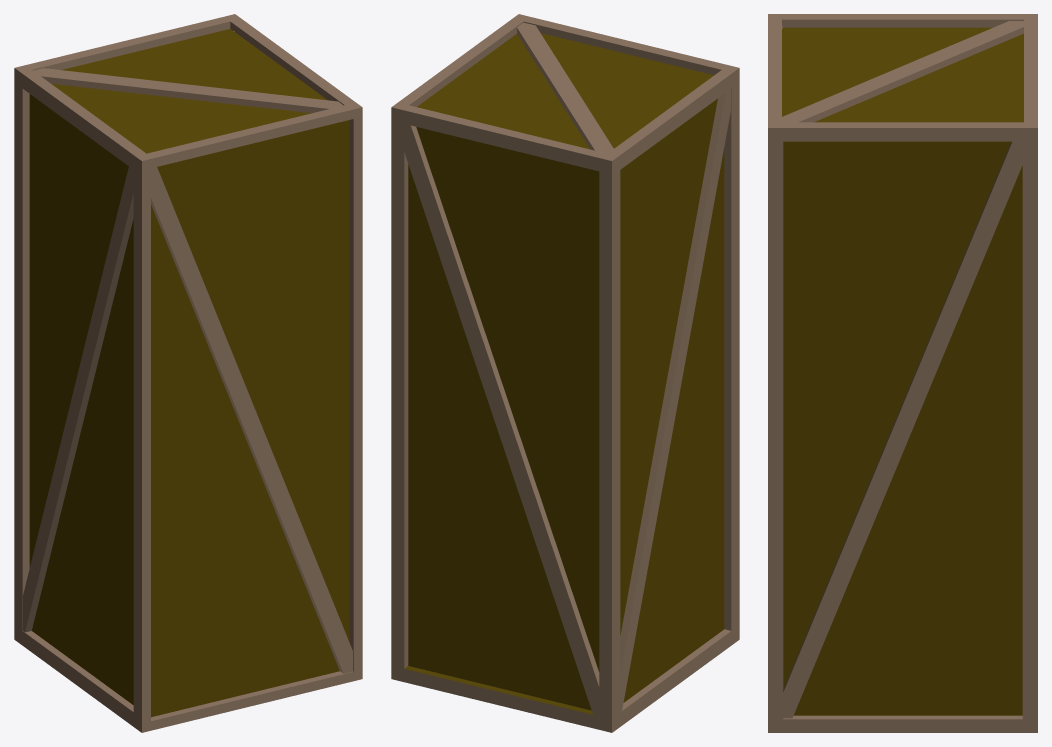
Rendered from Colis_Ecureil.fbx.
3 renders of one model, left to right at view 1: azimuth 30°, elevation 25°; view 2: azimuth 150°, elevation 25°; view 3: azimuth 270°, elevation 25°, orthographic. The views are drawn at different scales.
Visible parts, largest first — view 1: Boite_Fermer.001; view 2: Boite_Fermer.001; view 3: Boite_Fermer.001.
Part boxes in pixels (box(x1,y1,x2,y2)): Boite_Fermer.001: box(14, 14, 362, 732); Boite_Fermer.001: box(391, 14, 739, 732); Boite_Fermer.001: box(768, 14, 1037, 732).
Bounding box in the file's own units: 200 × 495 × 200.
